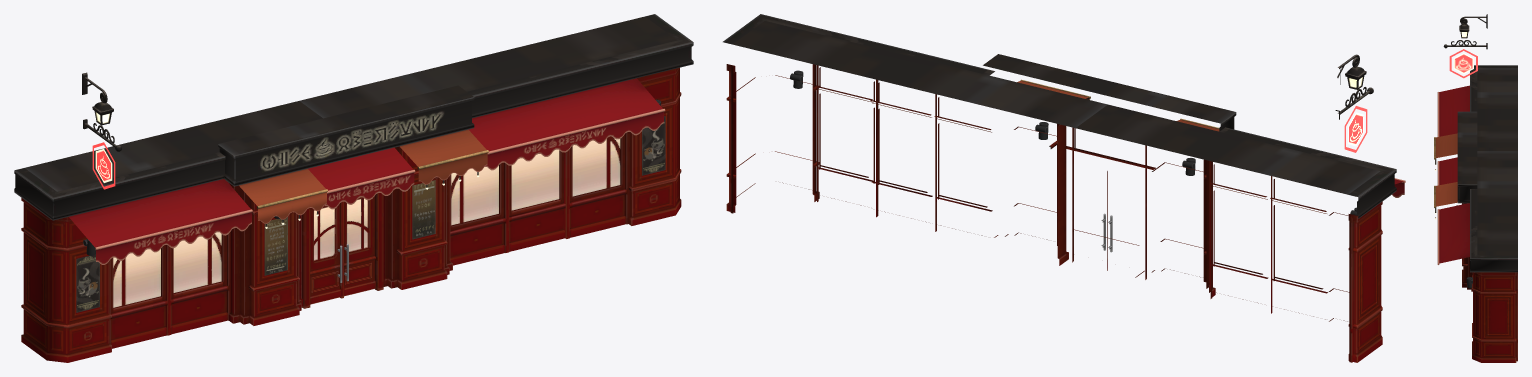
The model's file is t1_b_cafe_d.glb.
3 views of the same model, side by side, from view 1: azimuth 30°, elevation 25°; view 2: azimuth 150°, elevation 25°; view 3: azimuth 270°, elevation 25° (orthographic). The views are drawn at different scales.
Visible parts, largest first — view 1: nomerge_t1_b_cafe_d_model_mesh; view 2: nomerge_t1_b_cafe_d_model_mesh; view 3: nomerge_t1_b_cafe_d_model_mesh.
Boxes of the visible parts, x1=… form: nomerge_t1_b_cafe_d_model_mesh: x1=14, y1=14, x2=693, y2=362; nomerge_t1_b_cafe_d_model_mesh: x1=723, y1=14, x2=1405, y2=362; nomerge_t1_b_cafe_d_model_mesh: x1=1434, y1=14, x2=1517, y2=362.
Bounding box in the file's own units: 19.79 × 8.13 × 3.62.
Materials: 4 (4 with a texture image).
